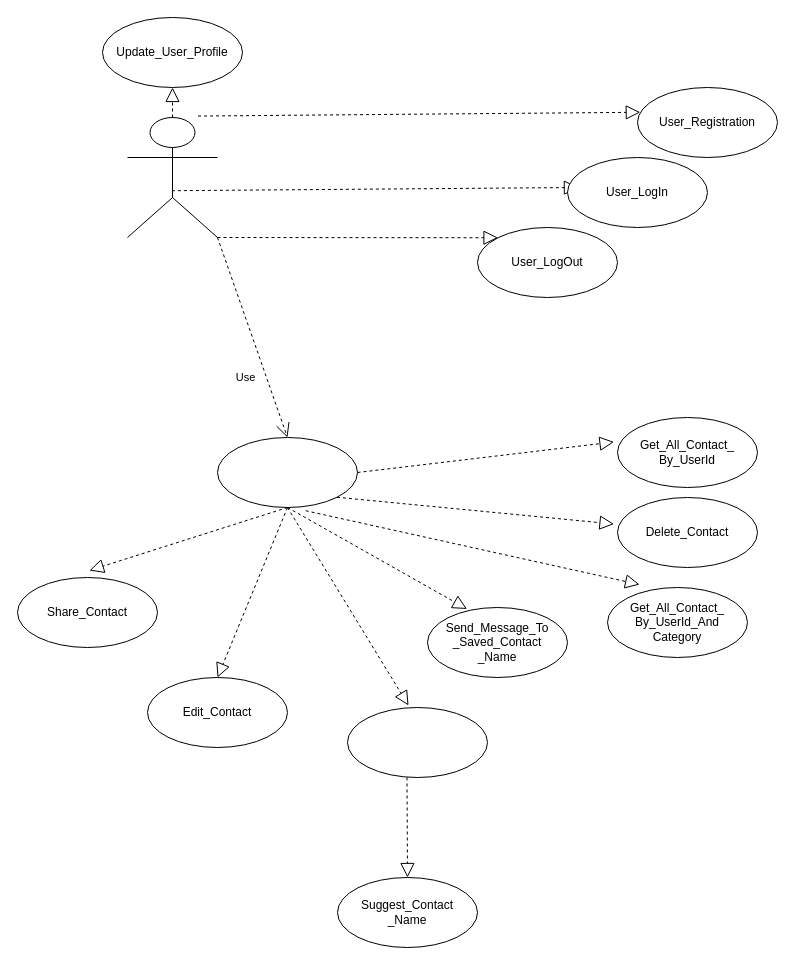
Image size: 795x965. Some labels were removed from this diagram. Each missing label, with the box of its shape:
Contact_Manager_App: (216, 436, 358, 508)
Create_Contact: (346, 706, 488, 778)
User: (126, 116, 218, 238)
